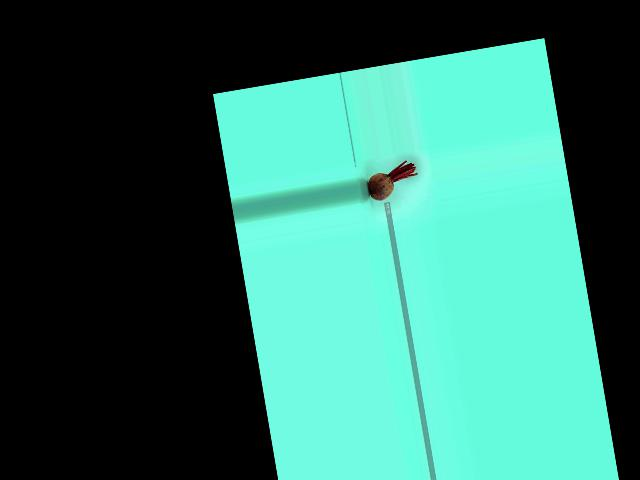beet: (364, 159, 420, 202)
